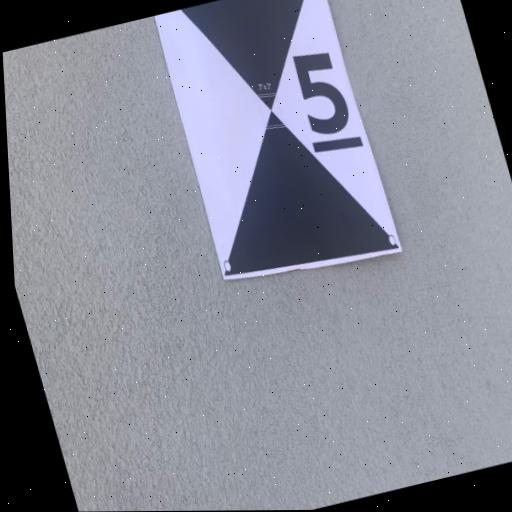target5: (150, 0, 399, 279)
